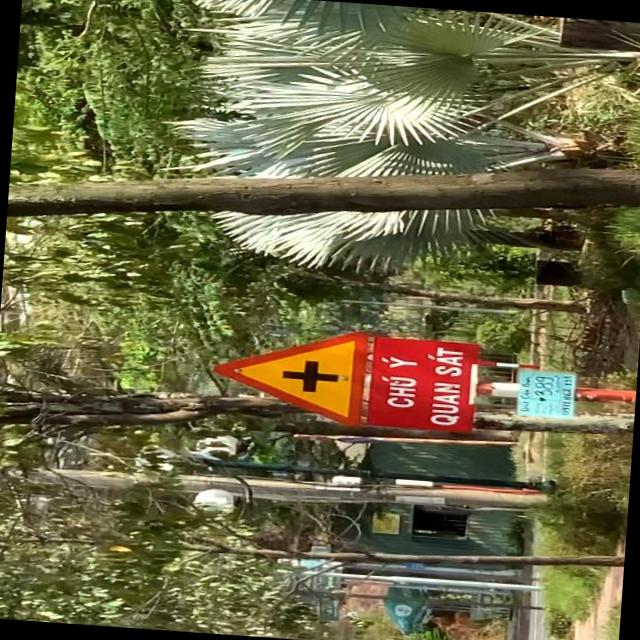W-205a: (212, 323, 370, 423)
